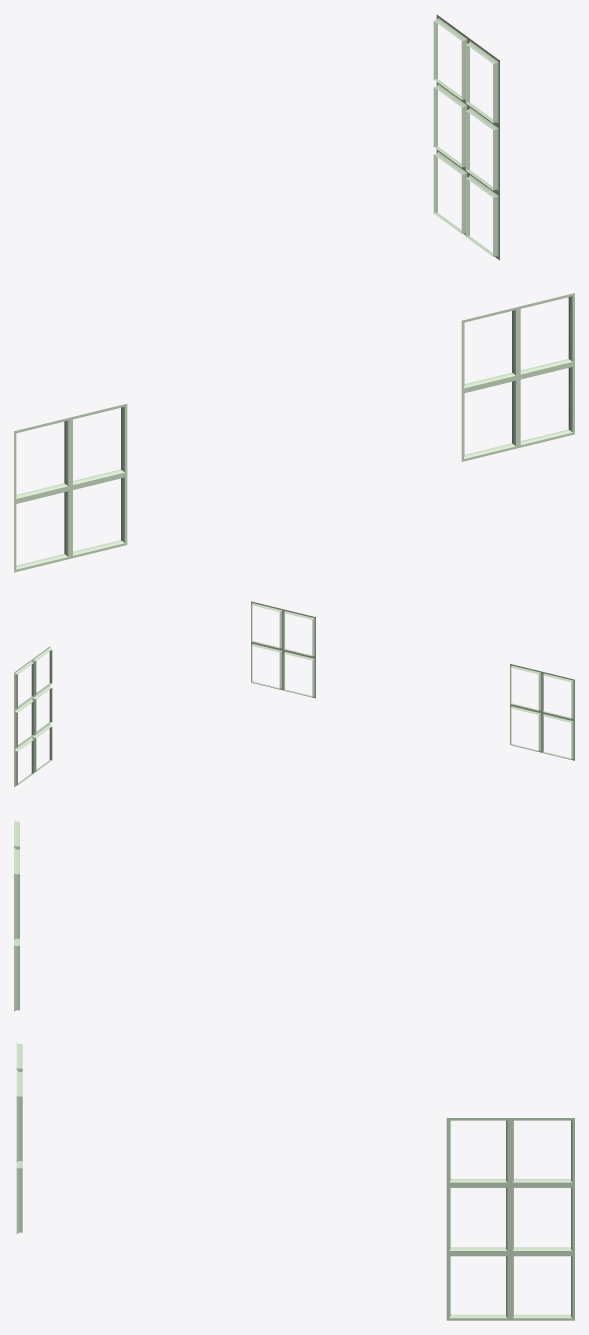
Rendered from FairyTale201.gltf.
3 views of the same model, one above another, from view 1: azimuth 30°, elevation 25°; view 2: azimuth 150°, elevation 25°; view 3: azimuth 270°, elevation 25° (orthographic). The views are drawn at different scales.
Visible parts, largest first — view 1: HouseCabin_Mullions_Wood; view 2: HouseCabin_Mullions_Wood; view 3: HouseCabin_Mullions_Wood.
Boxes of the visible parts, x1,y1,x2,y2 form: HouseCabin_Mullions_Wood: (14,14,574,572); HouseCabin_Mullions_Wood: (14,601,574,787); HouseCabin_Mullions_Wood: (14,820,574,1320).
Size of the model in its own units: 3.99 by 1.09 by 2.74.
